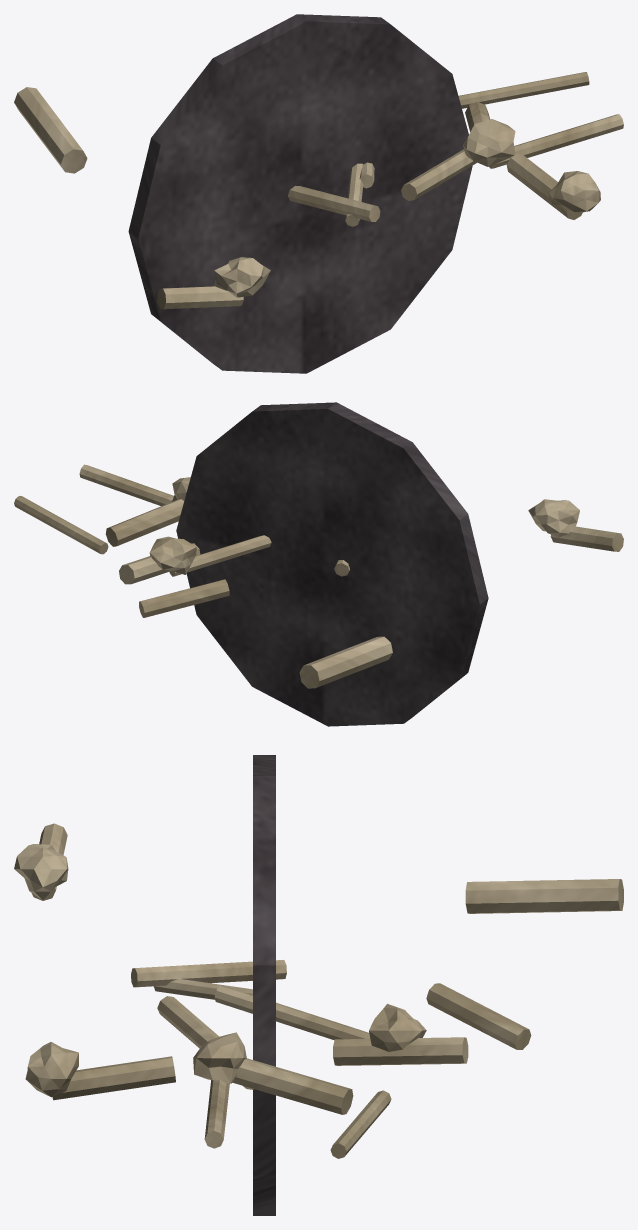
The model's file is 0231_bone_heap_06.glb.
3 renders of one model, top to bottom at view 1: azimuth 30°, elevation 25°; view 2: azimuth 150°, elevation 25°; view 3: azimuth 270°, elevation 25°, orthographic. The views are drawn at different scales.
Visible parts, largest first — view 1: ash, bone; view 2: ash, bone; view 3: bone, ash.
Boxes of the visible parts, bbox=[...] form: ash: bbox=[128, 14, 472, 373]; bone: bbox=[14, 72, 623, 309]; ash: bbox=[176, 402, 488, 726]; bone: bbox=[14, 464, 623, 688]; bone: bbox=[14, 823, 623, 1158]; ash: bbox=[253, 755, 275, 1215].
Bounding box in the file's own units: 2.61 × 1.6 × 2.11.
2 materials, 2 textured.
